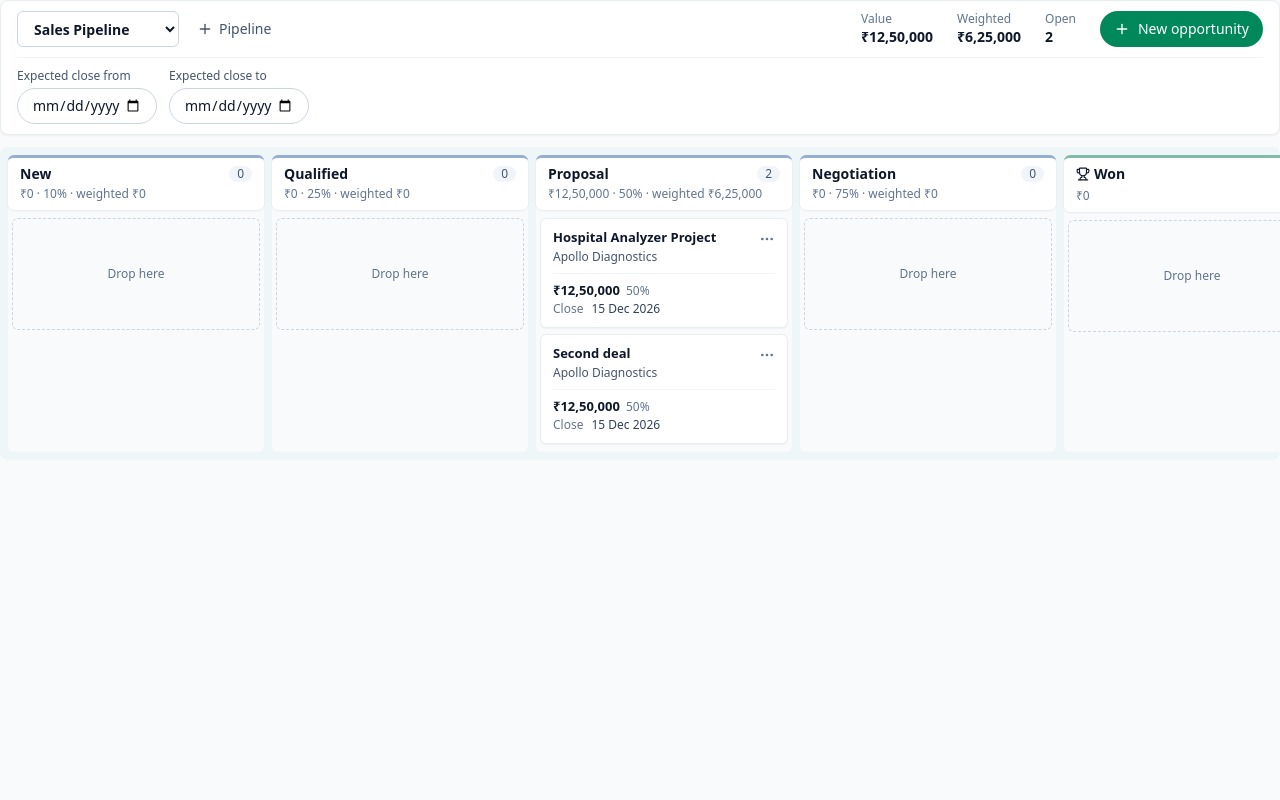
Test case: F5: a second move while one is saving › is explained instead of silently dropped
Step 1. Click the button named "Move Hospital Analyzer Project" → x=767, y=239, box [751, 223, 783, 255]
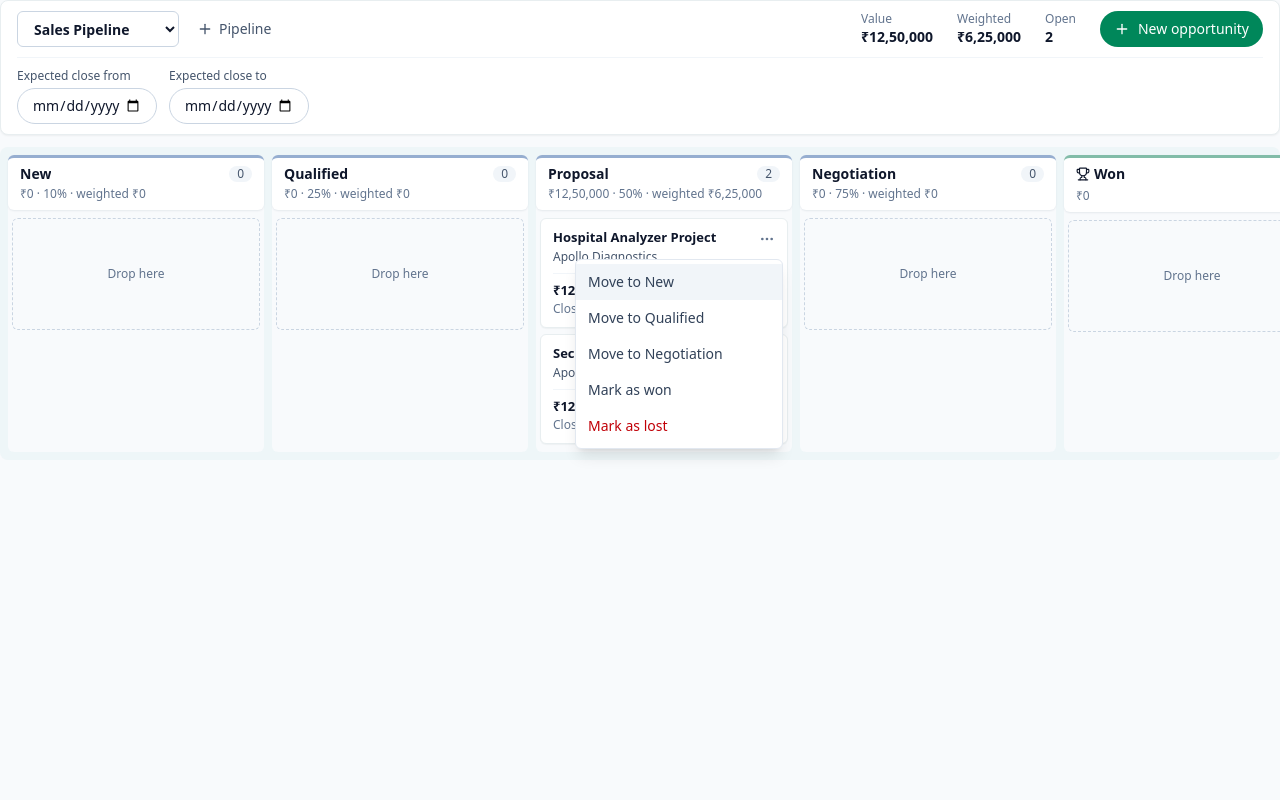
Step 2. Click the menu item "Move to Qualified" → x=679, y=318, box [576, 300, 782, 336]
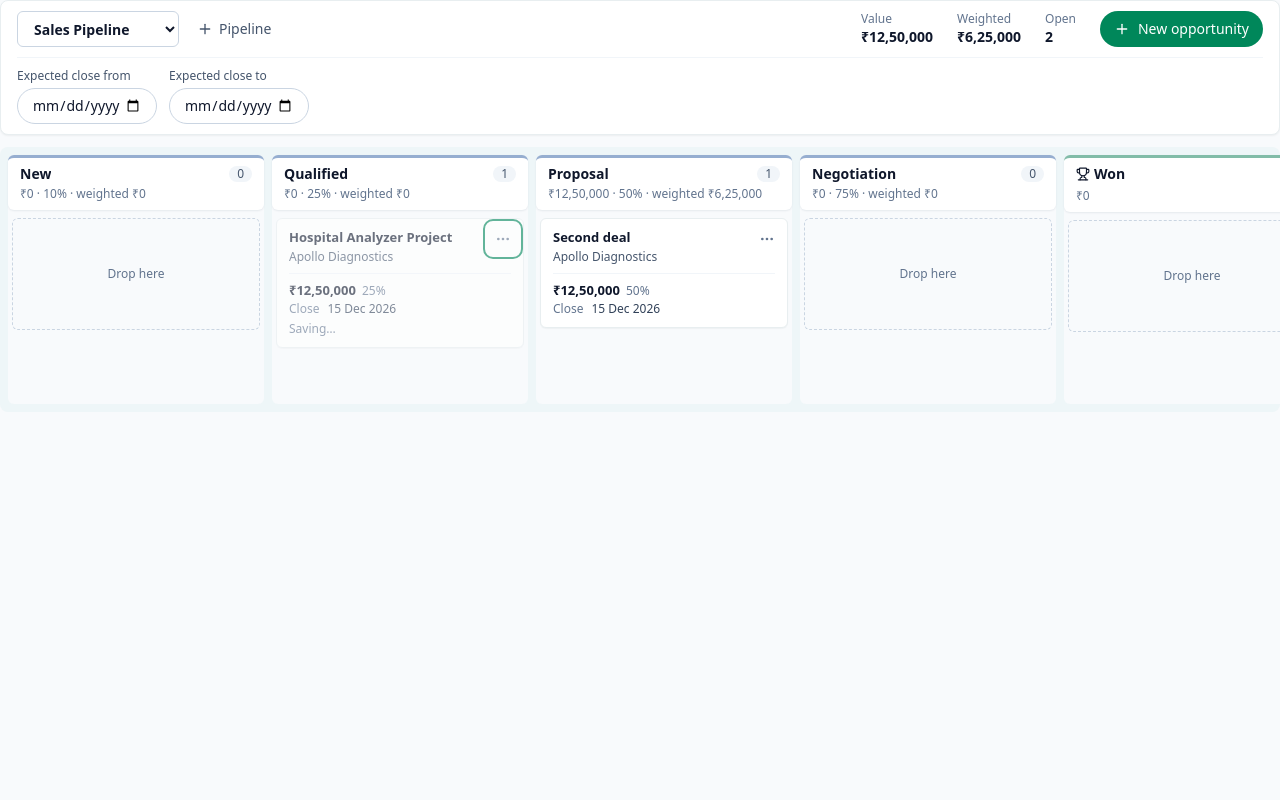
Step 3. Click the button named "Move Second deal" → x=767, y=239, box [751, 223, 783, 255]
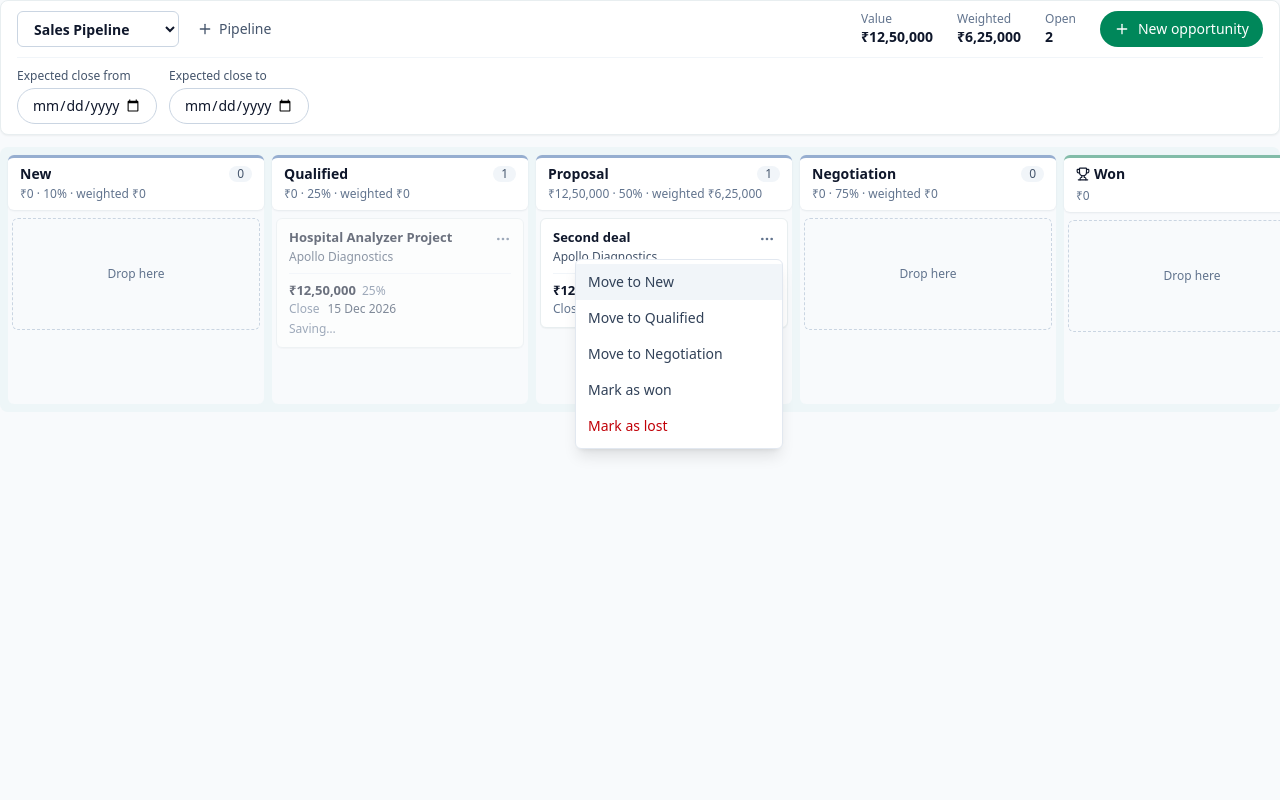
Step 4. Click the menu item "Move to New" → x=679, y=282, box [576, 264, 782, 300]
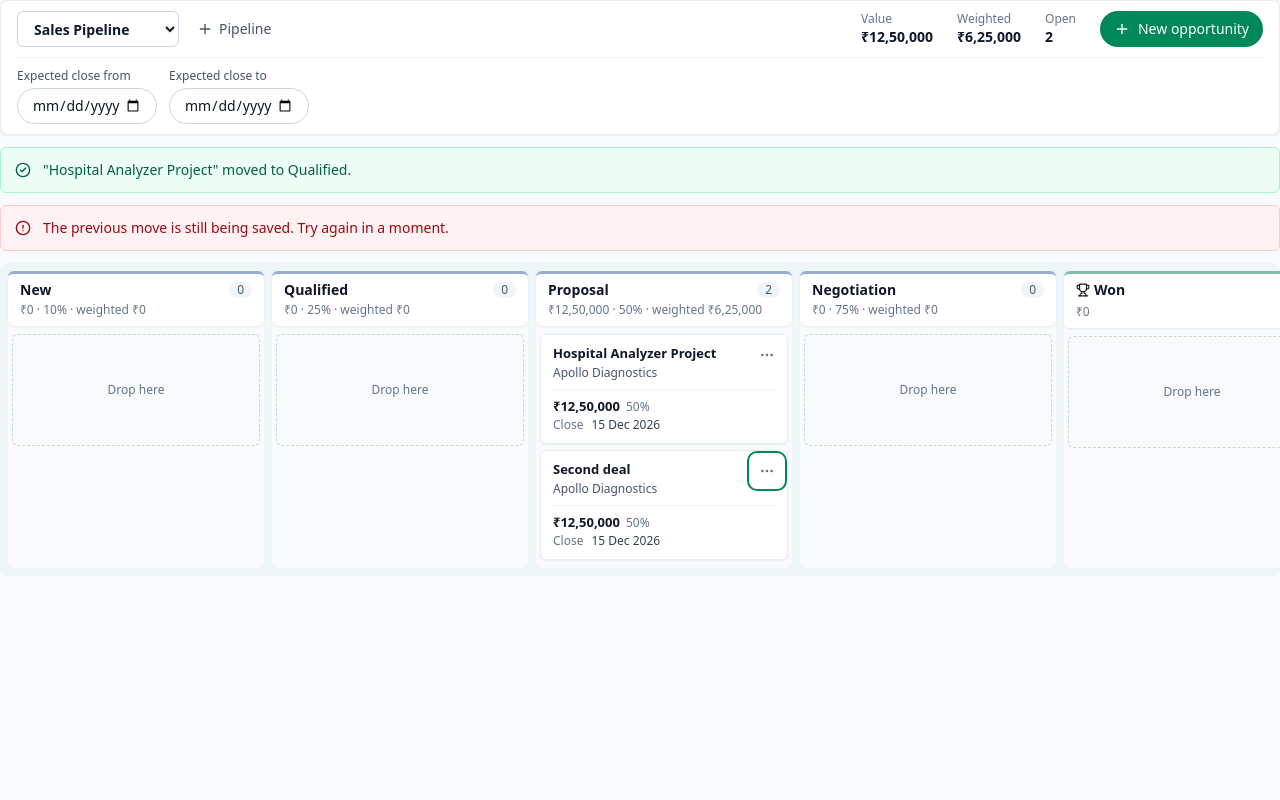
Check: the text "The previous move is still being saved. Try again in a moment." is shown, box [43, 218, 449, 237]
